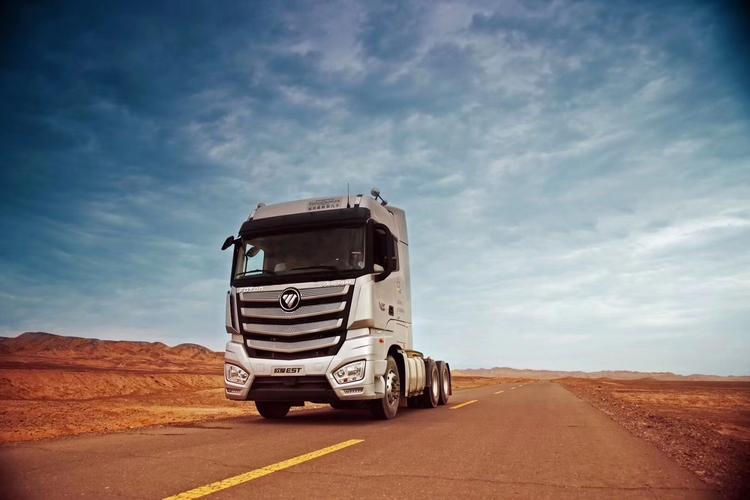卡车: (220, 191, 465, 417)
